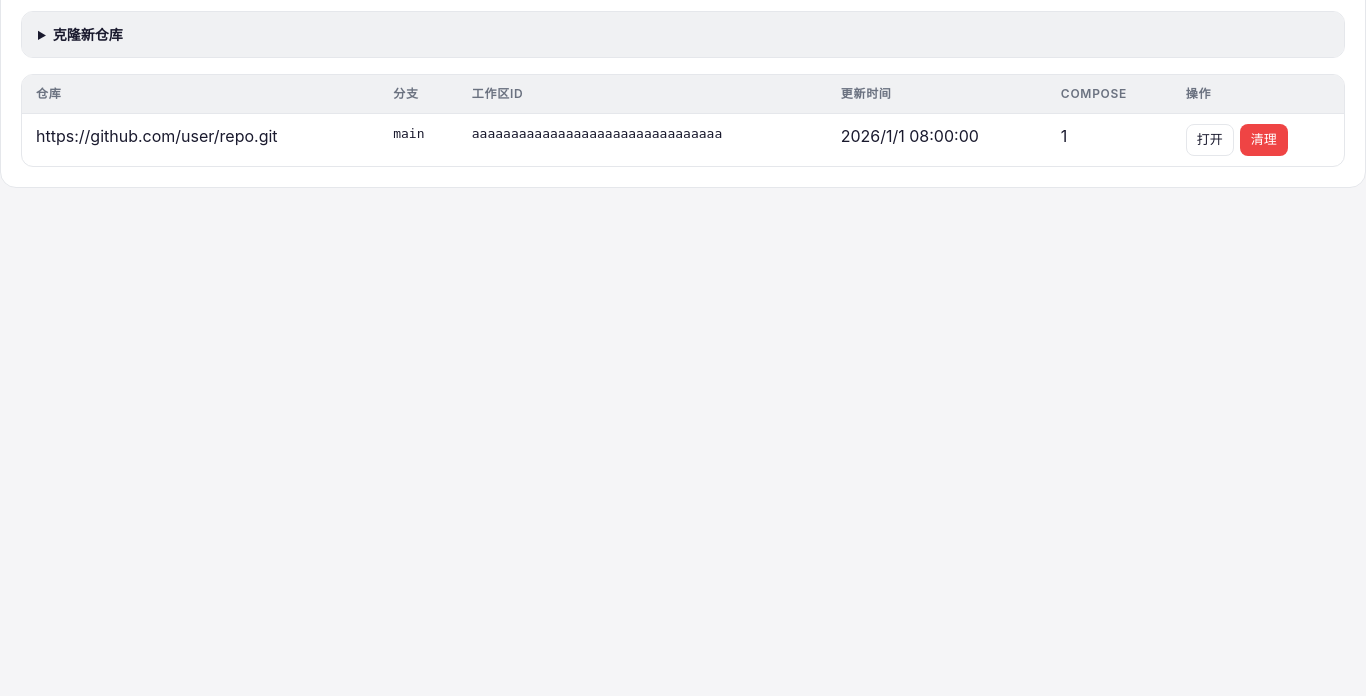
Test: WorkspacePanel › shows build image tags form when build_services present
The width and height of the screenshot is (1366, 696).
Click the button "打开" at (1210, 140), box [1186,124,1234,156]
(page scrolled)
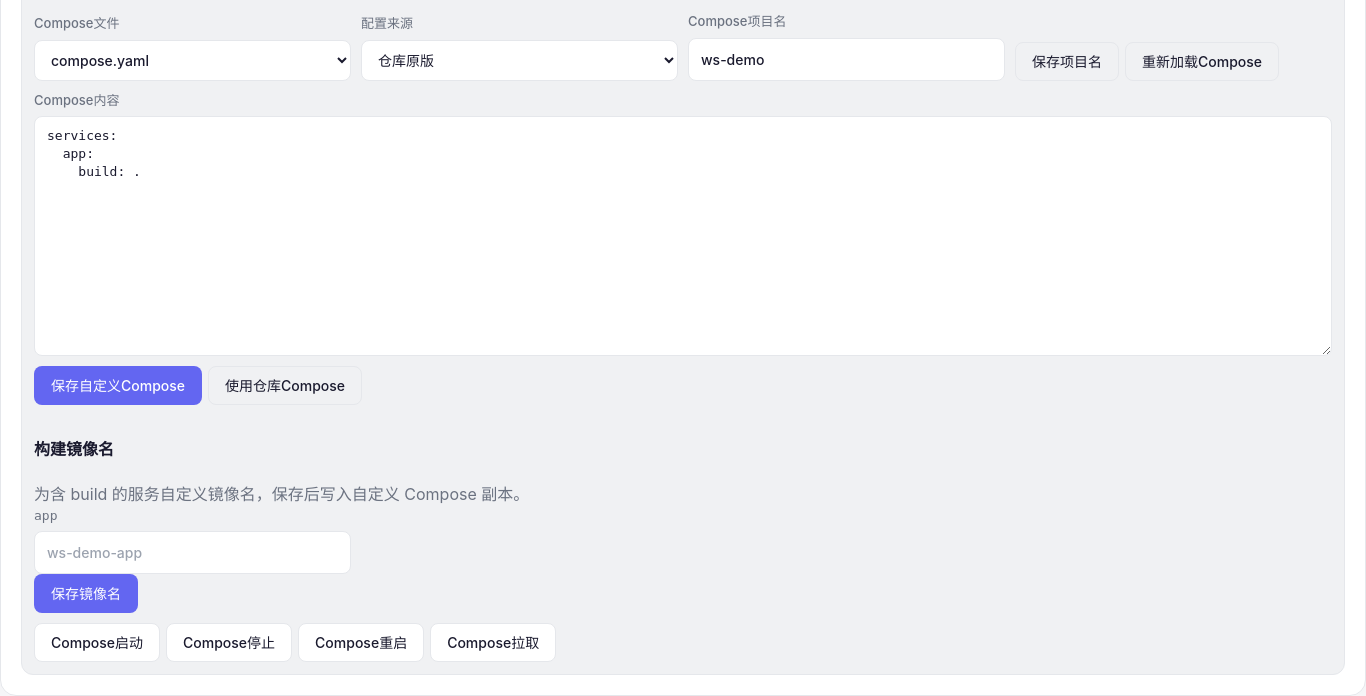
Expected: the heading "构建镜像名" is shown, [34,439,114,459]
Expected: the text "app" is shown, [34,508,58,523]
Expected: the field named "镜像名-app" is shown, [34,531,351,574]
